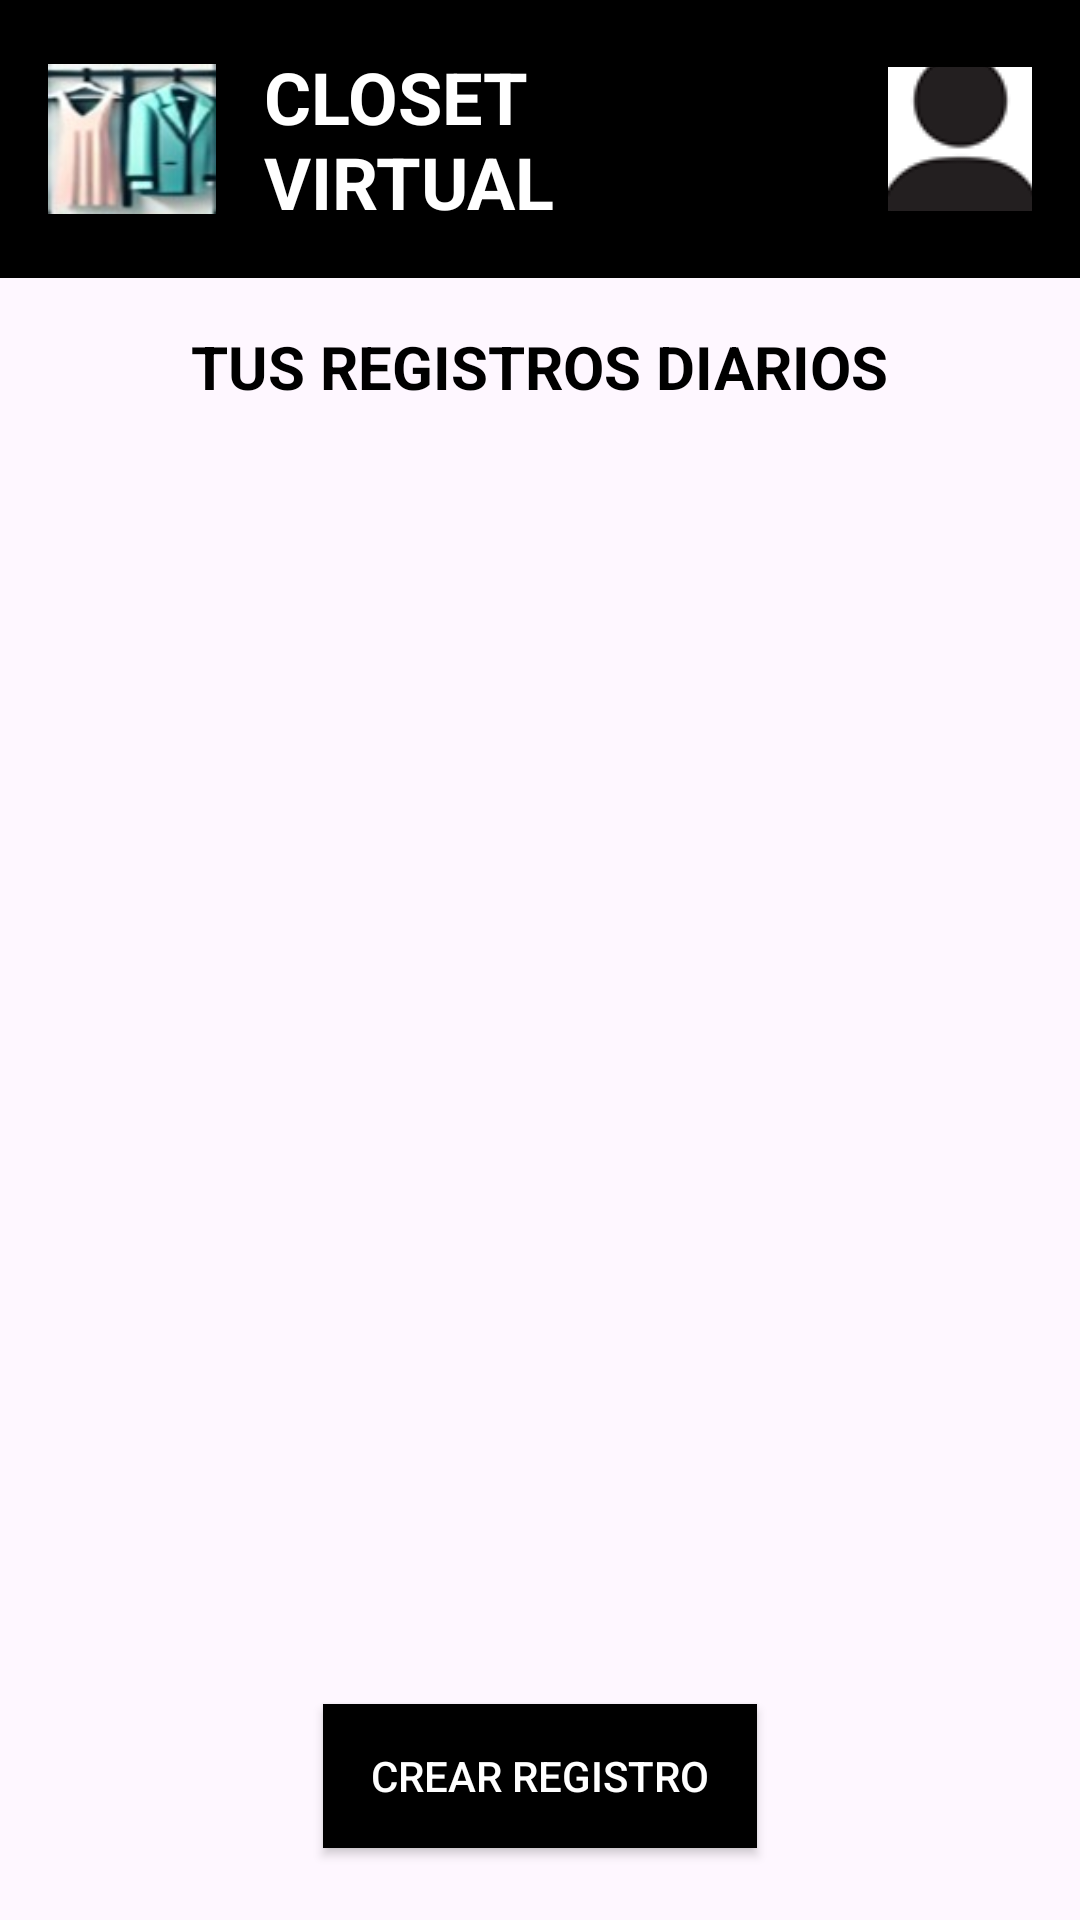

Locate icon controls on the screen. Image size 1080w x 1920h, boxes as (x1, y1, x2, y2).
Usuario: (888, 67, 1032, 211)
